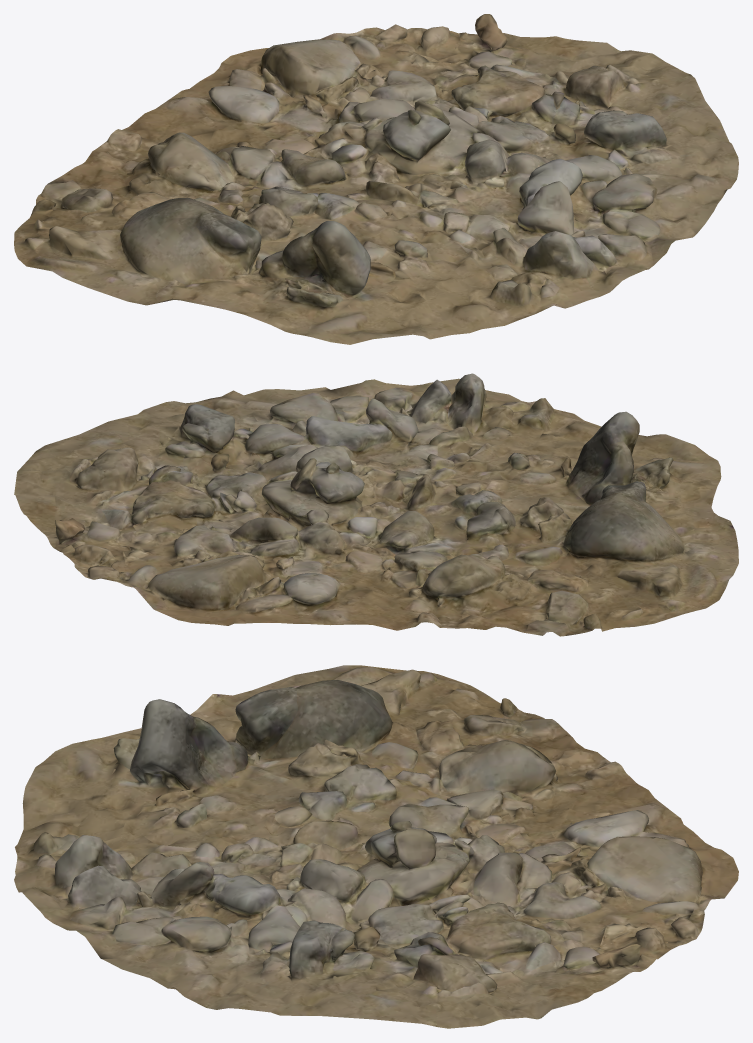
Rendered from sand_rocks_small_01.glb.
3 renders of one model, top to bottom at view 1: azimuth 30°, elevation 25°; view 2: azimuth 150°, elevation 25°; view 3: azimuth 270°, elevation 25°, orthographic. The views are drawn at different scales.
Parts seen in each view (by area): view 1: sand_rocks_small_01_LOD0; view 2: sand_rocks_small_01_LOD0; view 3: sand_rocks_small_01_LOD0.
Part boxes in pixels (left/top/right/bottom): sand_rocks_small_01_LOD0: left=14, top=14, right=738, bottom=344; sand_rocks_small_01_LOD0: left=14, top=373, right=738, bottom=636; sand_rocks_small_01_LOD0: left=14, top=665, right=738, bottom=1028.
Size of the model in its own units: 4.63 by 0.5333 by 3.88.
1 material, 1 textured.
